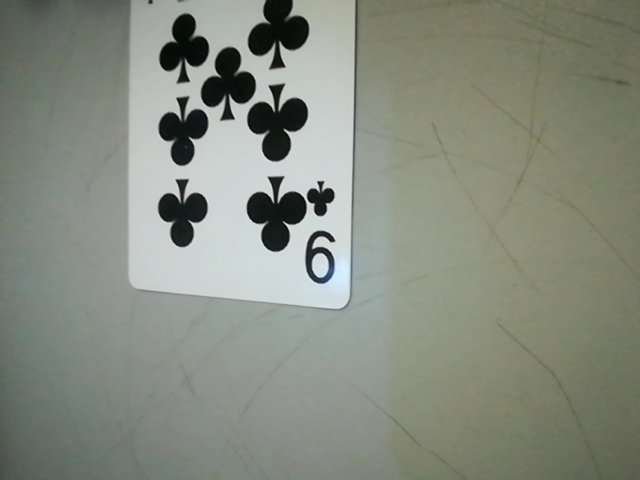mh 9: (297, 175, 348, 298)
